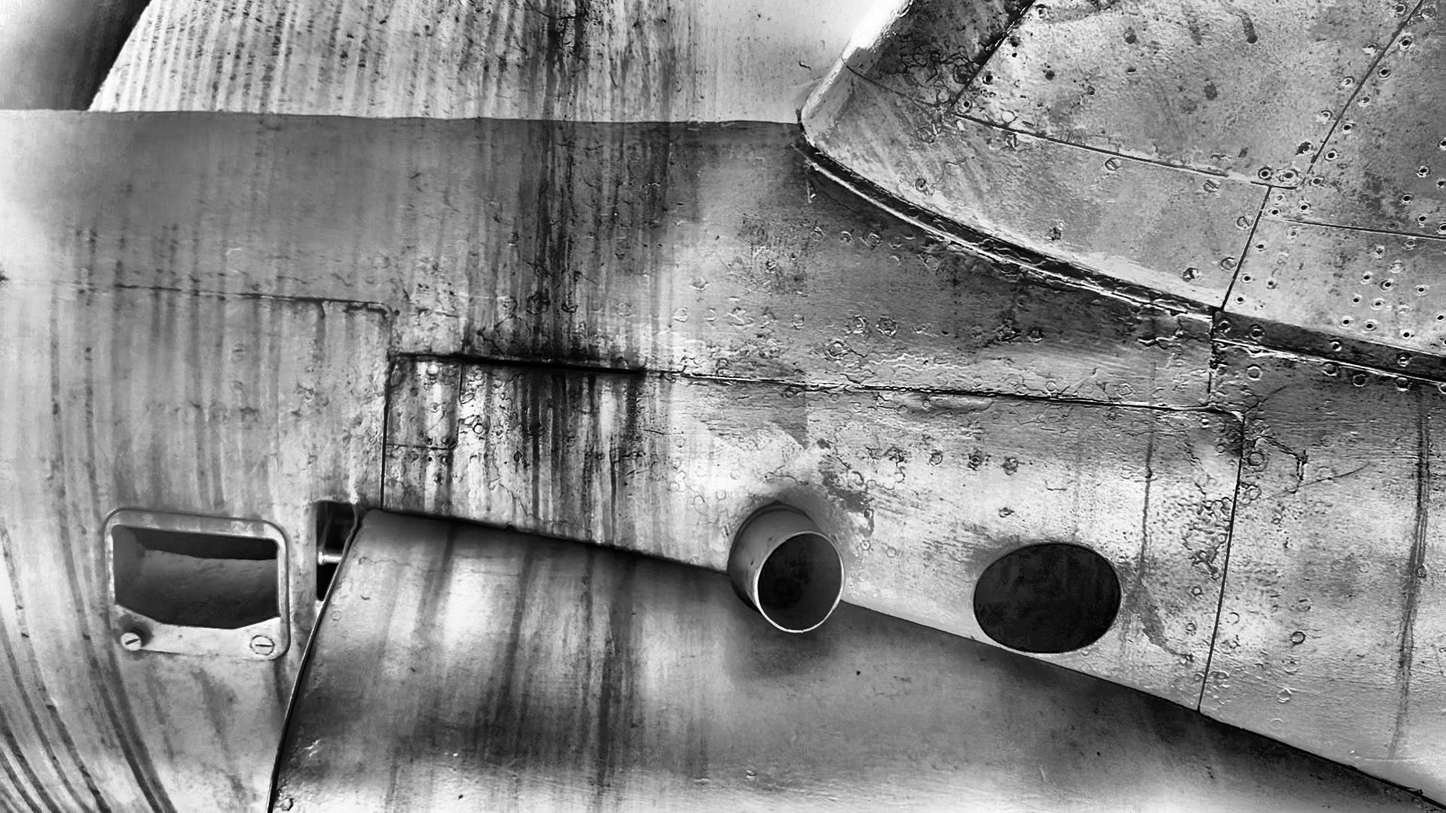crack: (315, 299, 326, 320)
dent: (903, 391, 993, 416)
missing-head: (1257, 166, 1273, 181), (1326, 149, 1336, 160), (1234, 296, 1245, 305), (1401, 194, 1412, 203), (1364, 322, 1375, 331), (1380, 68, 1390, 77), (1400, 38, 1410, 47), (1418, 167, 1429, 175), (1438, 222, 1446, 233), (1243, 274, 1252, 283), (983, 75, 993, 83), (1342, 124, 1352, 132), (1341, 318, 1350, 326), (1384, 280, 1392, 289), (961, 101, 971, 108), (1299, 204, 1309, 211), (1417, 215, 1427, 222), (1270, 209, 1279, 216), (1440, 138, 1446, 148), (1402, 332, 1410, 339), (1418, 286, 1425, 294), (1352, 297, 1360, 304), (1438, 179, 1445, 187), (1362, 275, 1371, 281), (1436, 315, 1445, 321), (1257, 244, 1264, 250)
paint-peel-off: (343, 302, 389, 321), (979, 33, 1004, 54), (388, 358, 404, 388)
